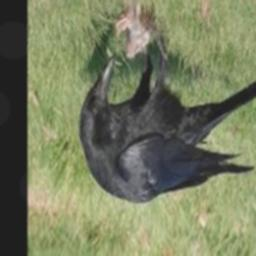Crow: (81, 33, 256, 204)
